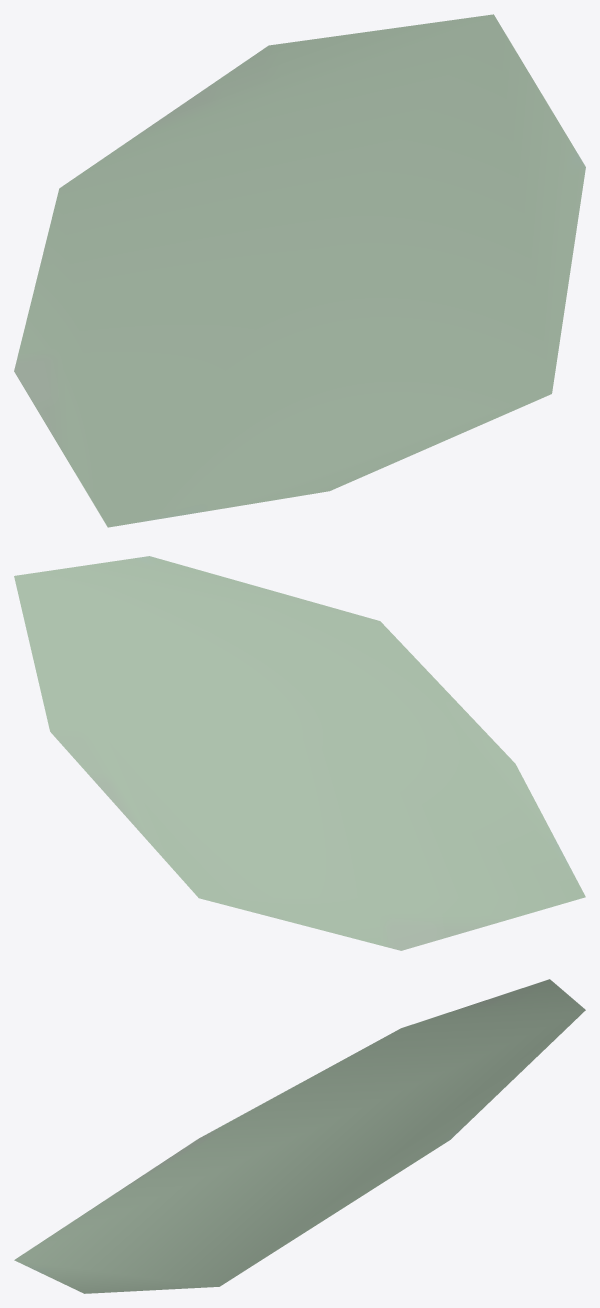
Rendered from TROLLHOLE02_HOLECAP109.fbx.
3 views of the same model, one above another, from view 1: azimuth 30°, elevation 25°; view 2: azimuth 150°, elevation 25°; view 3: azimuth 330°, elevation 25° (orthographic). The views are drawn at different scales.
Parts seen in each view (by area): view 1: TROLLHOLE02_HOLECAP109; view 2: TROLLHOLE02_HOLECAP109; view 3: TROLLHOLE02_HOLECAP109.
Boxes of the visible parts, x1=… form: TROLLHOLE02_HOLECAP109: x1=14, y1=14, x2=585, y2=527; TROLLHOLE02_HOLECAP109: x1=14, y1=556, x2=585, y2=950; TROLLHOLE02_HOLECAP109: x1=14, y1=979, x2=585, y2=1293.
Bounding box in the file's own units: 17239 × 10112 × 20518.
1 material, 1 textured.
